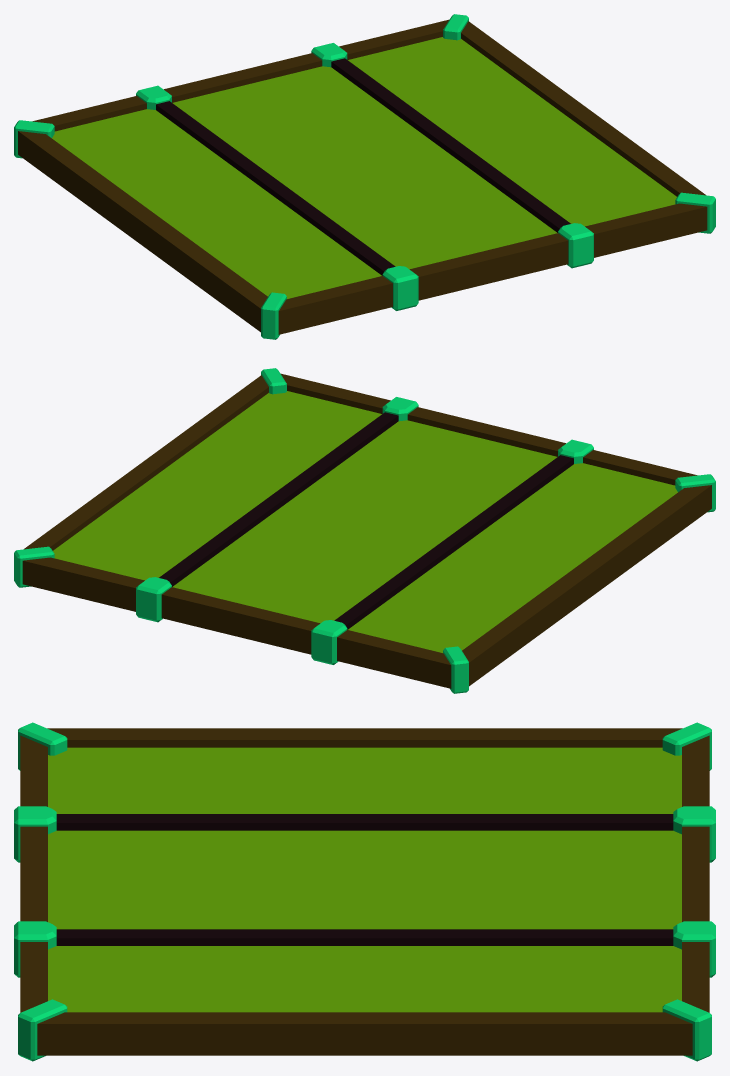
The model's file is OBJ_Plateforme_20x20.fbx.
3 renders of one model, top to bottom at view 1: azimuth 30°, elevation 25°; view 2: azimuth 150°, elevation 25°; view 3: azimuth 270°, elevation 25°, orthographic. The views are drawn at different scales.
Parts seen in each view (by area): view 1: OBJ_Plateforme_20x20; view 2: OBJ_Plateforme_20x20; view 3: OBJ_Plateforme_20x20.
Boxes of the visible parts, left/top/right/bottom form: OBJ_Plateforme_20x20: left=14, top=14, right=715, bottom=339; OBJ_Plateforme_20x20: left=14, top=368, right=715, bottom=693; OBJ_Plateforme_20x20: left=14, top=722, right=715, bottom=1061.
Bounding box in the file's own units: 20.06 × 1.36 × 20.
